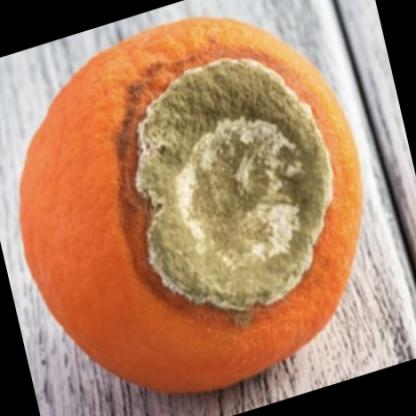rotten_orange: (13, 13, 369, 399)
